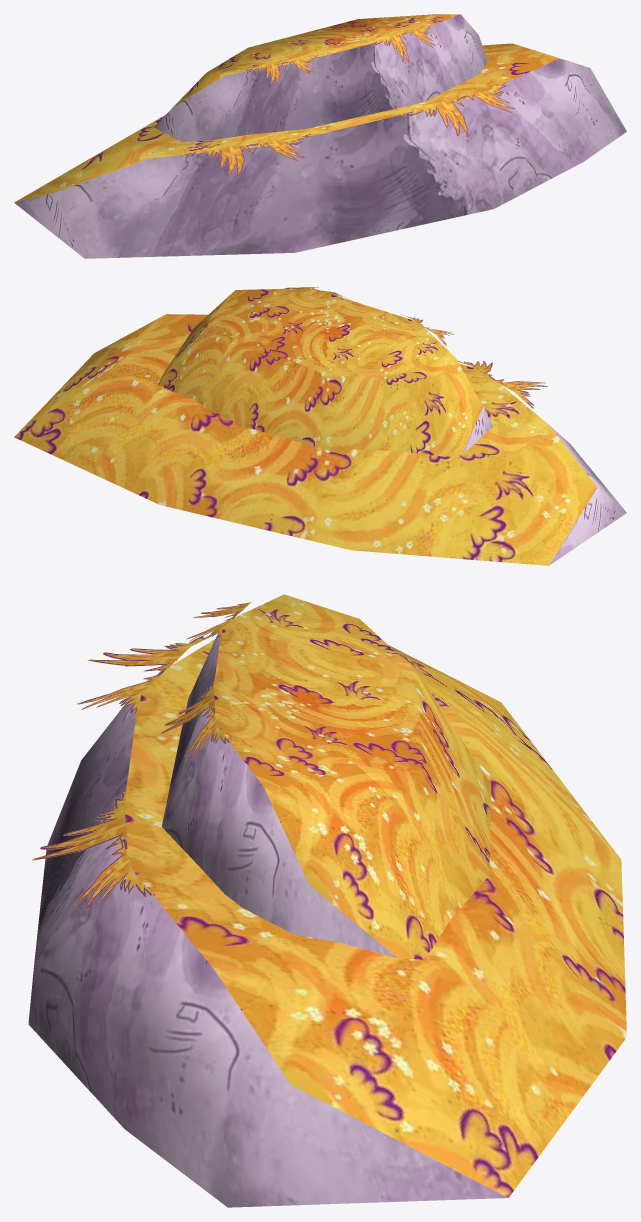
The model's file is terrain-amount-02.glb.
The picture shows the model from 3 angles, top to bottom: view 1: azimuth 30°, elevation 25°; view 2: azimuth 150°, elevation 25°; view 3: azimuth 270°, elevation 25°; orthographic projection. The views are drawn at different scales.
Parts seen in each view (by area): view 1: Terrain_Amount_02_Art; view 2: Terrain_Amount_02_Art; view 3: Terrain_Amount_02_Art.
Boxes of the visible parts, x1,y1,x2,y2 form: Terrain_Amount_02_Art: (14, 14, 626, 258); Terrain_Amount_02_Art: (14, 287, 626, 565); Terrain_Amount_02_Art: (28, 594, 626, 1207).
Size of what is drawn, in the model's own units: 8.75 by 2.44 by 4.53.
Materials: 3 (3 with a texture image).
